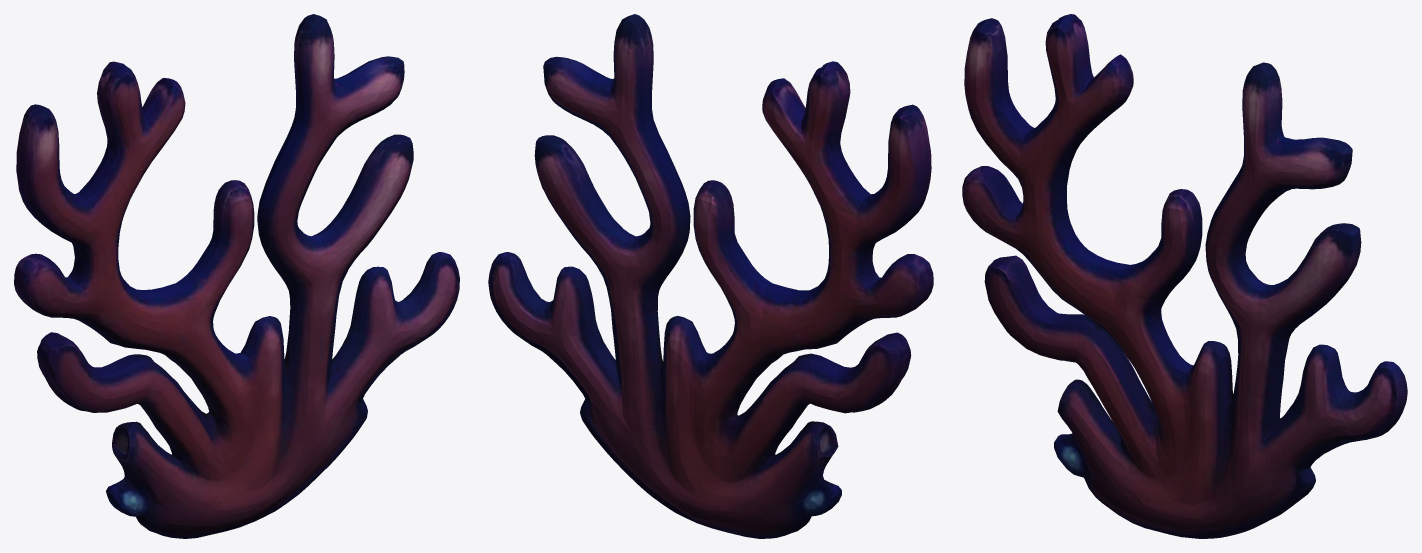
File: coral.glb
3 renders of one model, left to right at view 1: azimuth 30°, elevation 25°; view 2: azimuth 150°, elevation 25°; view 3: azimuth 330°, elevation 25°, orthographic.
Visible parts, largest first — view 1: world.001; view 2: world.001; view 3: world.001.
Part boxes in pixels (<box>): world.001: <box>14,14,459,538</box>; world.001: <box>488,14,933,538</box>; world.001: <box>962,14,1407,538</box>.
Size of the model in its own units: 0.9316 by 0.9991 by 0.0784.
Materials: 1 (1 with a texture image).
